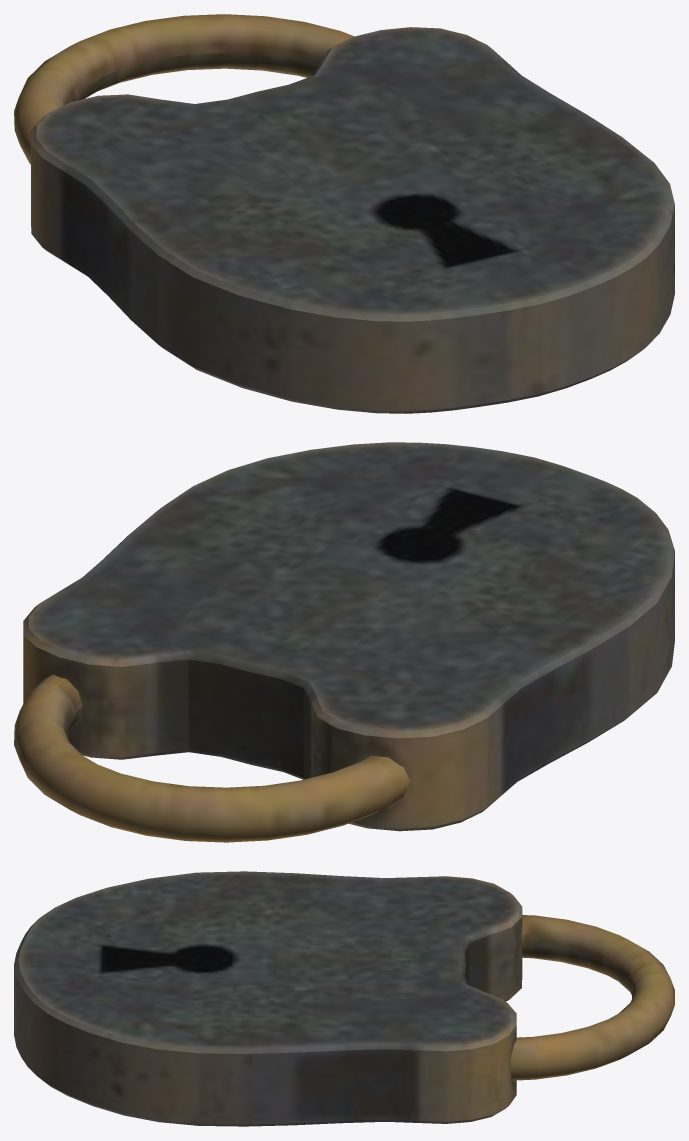
File: SM_Lock_Closed.glb
3 views of the same model, one above another, from view 1: azimuth 30°, elevation 25°; view 2: azimuth 150°, elevation 25°; view 3: azimuth 270°, elevation 25° (orthographic). The views are drawn at different scales.
Visible parts, largest first — view 1: SM_Lock_Closed; view 2: SM_Lock_Closed; view 3: SM_Lock_Closed.
Boxes of the visible parts, x1,y1,x2,y2 form: SM_Lock_Closed: [14, 14, 674, 413]; SM_Lock_Closed: [14, 442, 674, 842]; SM_Lock_Closed: [14, 871, 674, 1126].
Size of the model in its own units: 0.1968 by 0.0399 by 0.3047.
1 material, 1 textured.
